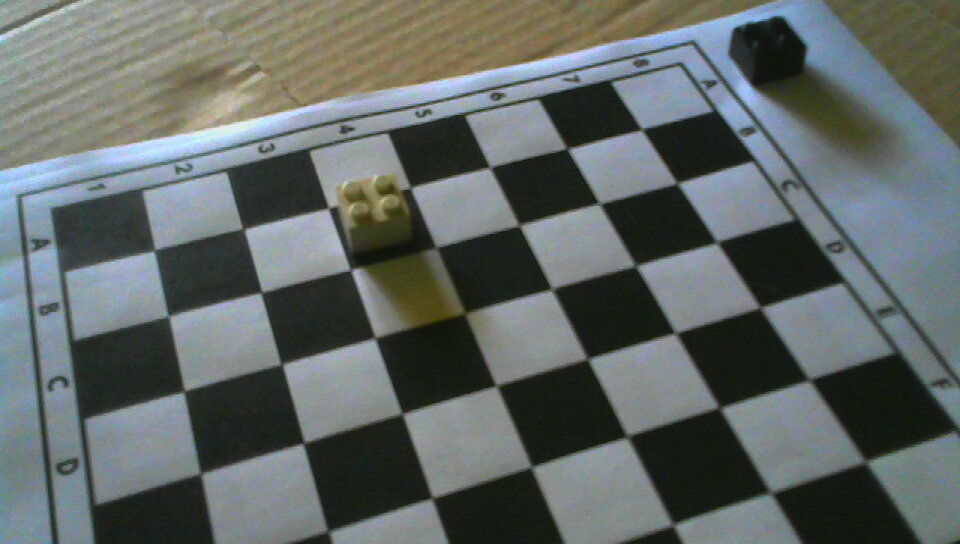bp: (724, 16, 808, 86)
wp: (334, 171, 411, 252)
